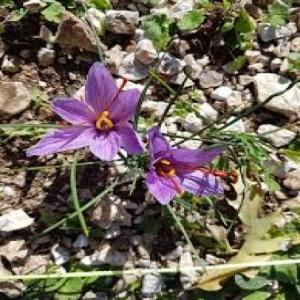Saffron: (31, 61, 146, 159), (147, 130, 232, 204)
